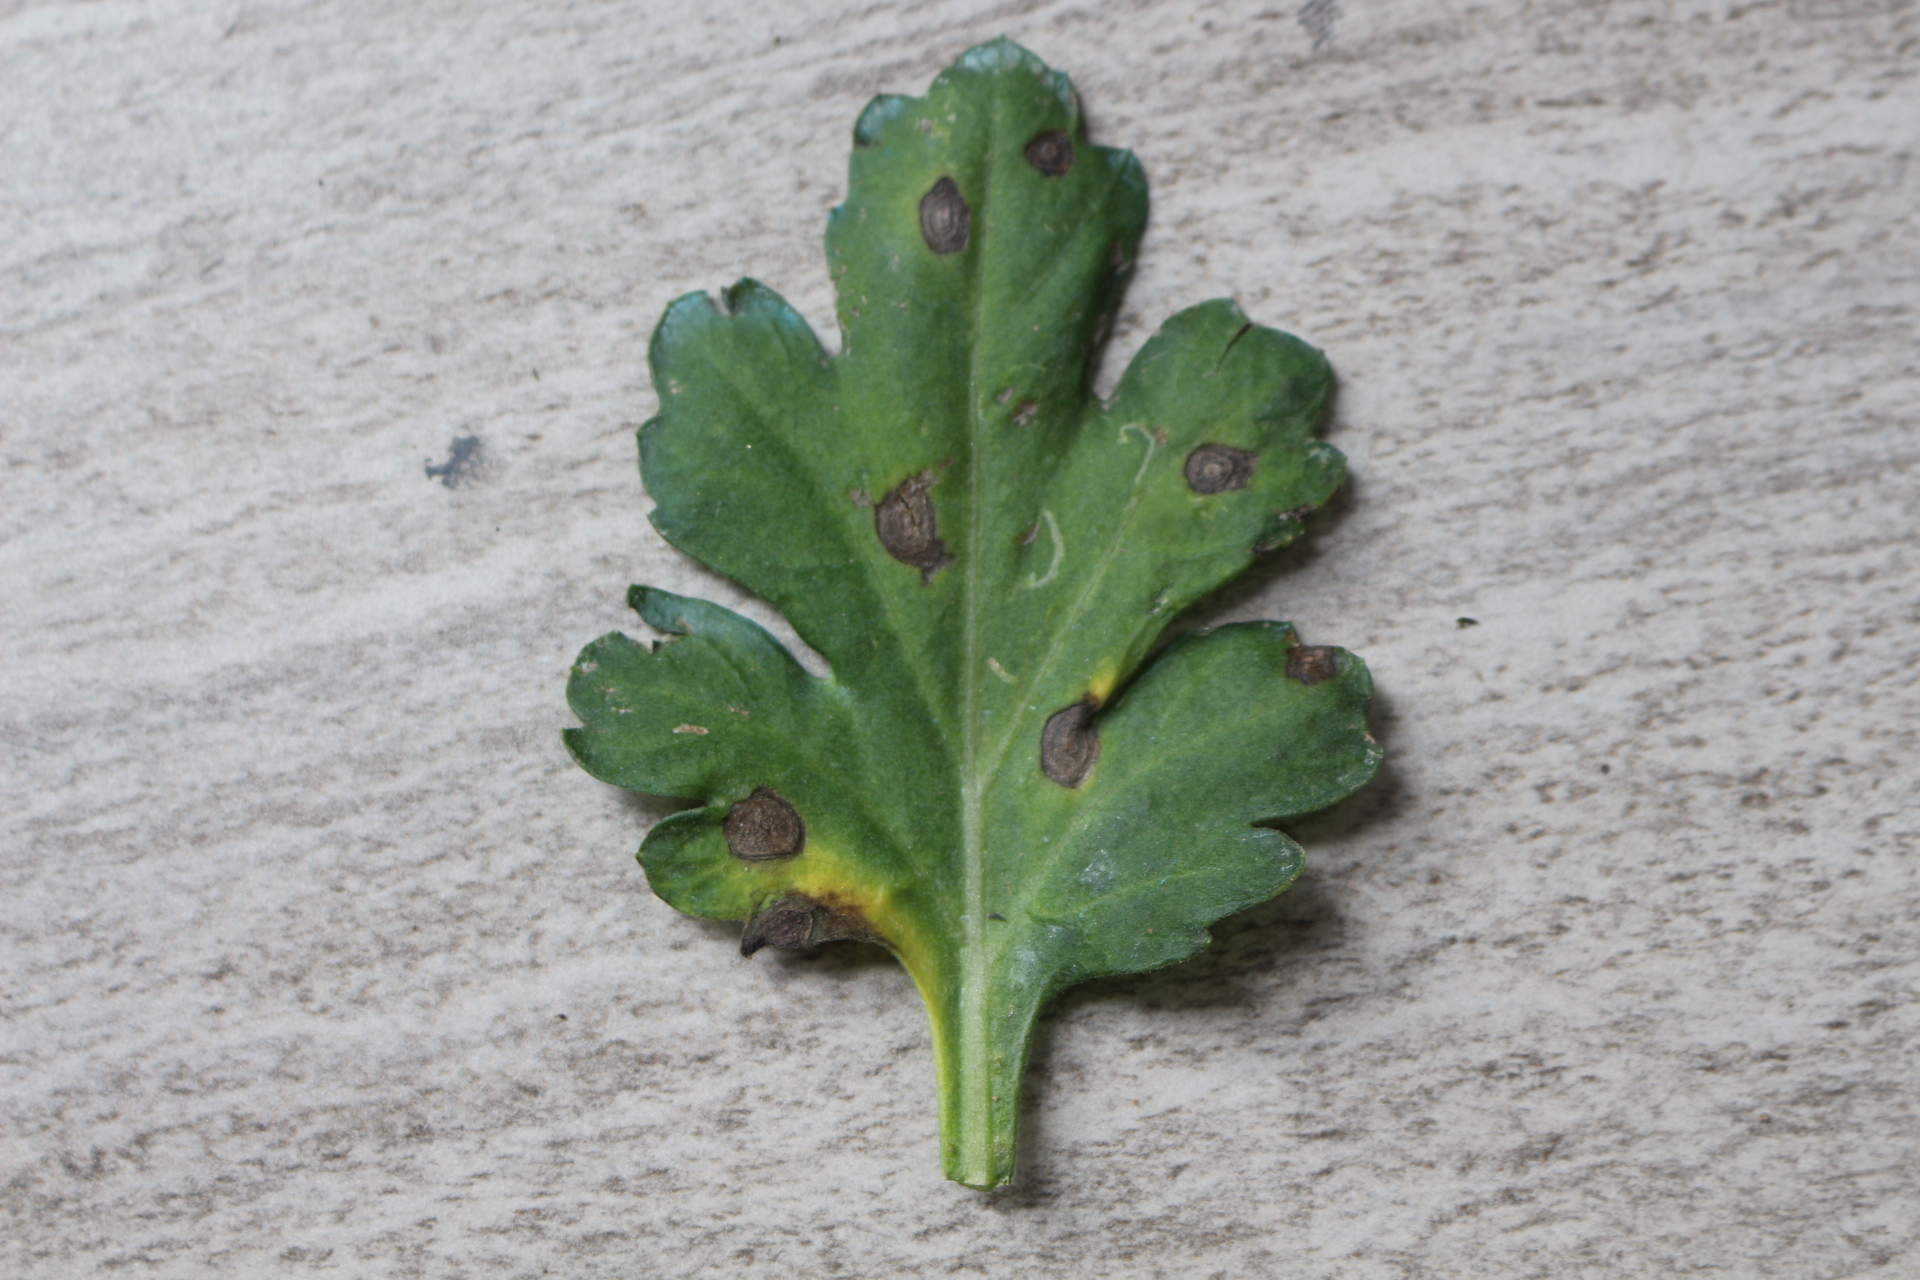namden: (871, 471, 954, 574), (1034, 691, 1103, 791), (721, 787, 809, 866), (913, 169, 981, 257), (1179, 439, 1266, 496), (1016, 123, 1076, 187), (1284, 641, 1341, 694)
